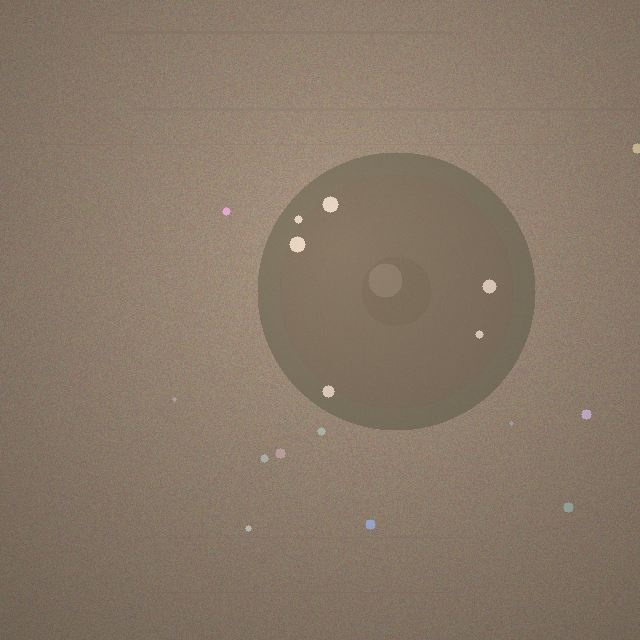overburn: (257, 152, 535, 430)
